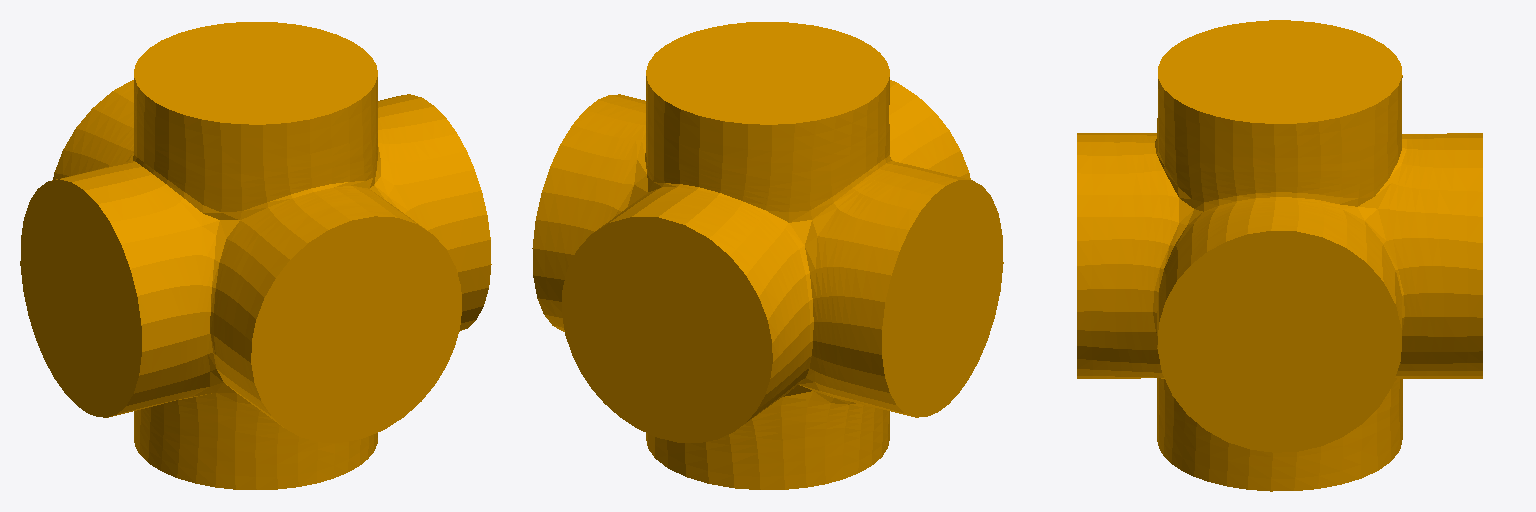
The robot description file, URDF, robot "object":
<robot name="object">
  <link name="object">
    <visual>
      <origin xyz="0 0 0"/>
      <geometry>
        <mesh filename="visual.obj" scale="1 1 1"/>
      </geometry>
    </visual>
    <collision>
      <origin xyz="0 0 0"/>
      <geometry>
        <mesh filename="visual.obj" scale="1 1 1"/>
      </geometry>
    </collision>
    <inertial>
      <mass value="0.05"/>
      <inertia ixx="4.986379191476386e-05" iyy="4.986299256789726e-05" izz="4.985084151326316e-05" ixy="4.722430813685422e-09" ixz="-4.021696610504122e-09" iyz="7.361610107372733e-10"/>
    </inertial>
  </link>
</robot>

--- What the picture shows (computed from the rendered views, not written in the file) ---
The picture shows the robot from 3 angles, left to right: view 1: azimuth 30°, elevation 25°; view 2: azimuth 150°, elevation 25°; view 3: azimuth 270°, elevation 25°; orthographic projection.
Model object with 1 links and 0 joints (none), rooted at object, posed all joints at 0.
Visible links, largest first — view 1: object; view 2: object; view 3: object.
Boxes of the visible links, x1,y1,x2,y2 form: object: (20, 22, 491, 489); object: (532, 22, 1003, 489); object: (1077, 20, 1482, 491).
Size in the robot's own frame: 0.096 by 0.096 by 0.096 metres.
1 mesh visuals loaded from 1 distinct referenced files (1 OBJ).
